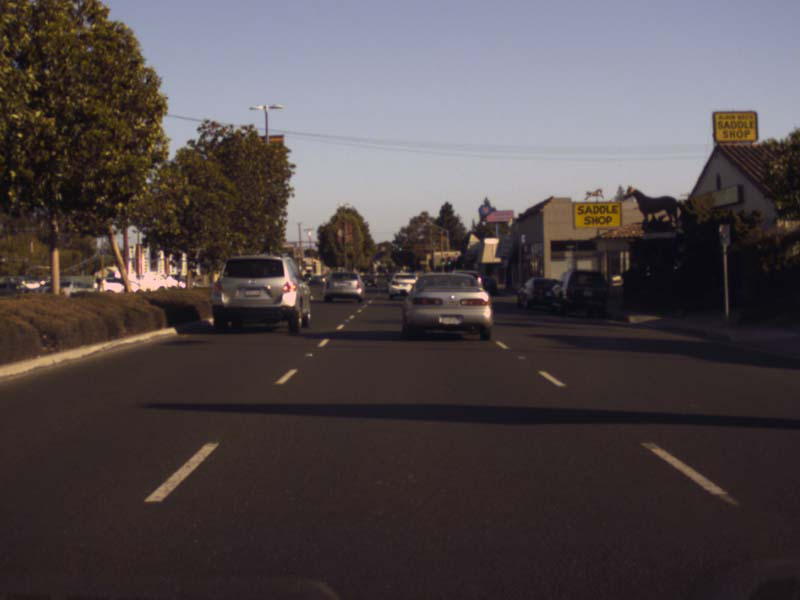Green: (398, 243, 402, 252), (440, 258, 445, 265), (447, 257, 450, 265)
